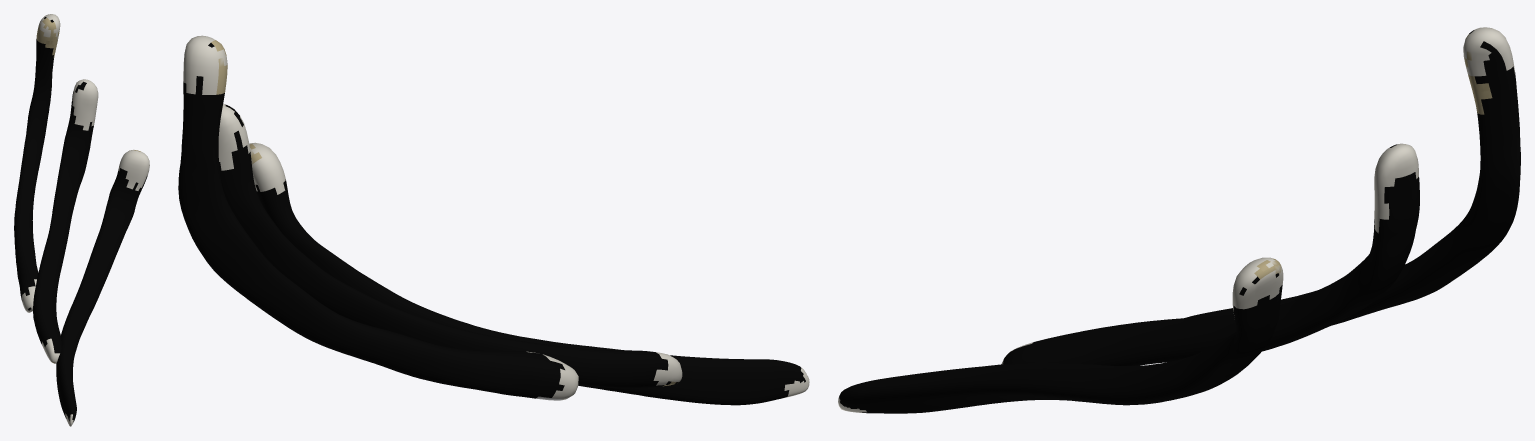
Rendered from Costal Cartilage Left.fbx.
3 renders of one model, left to right at view 1: azimuth 30°, elevation 25°; view 2: azimuth 150°, elevation 25°; view 3: azimuth 270°, elevation 25°, orthographic. The views are drawn at different scales.
Visible parts, largest first — view 1: Costal Cartilage Left; view 2: Costal Cartilage Left; view 3: Costal Cartilage Left.
Boxes of the visible parts, x1,y1,x2,y2 form: Costal Cartilage Left: [14, 14, 149, 426]; Costal Cartilage Left: [178, 35, 809, 405]; Costal Cartilage Left: [838, 27, 1520, 413].
Bounding box in the file's own units: 13.41 × 18.46 × 22.
